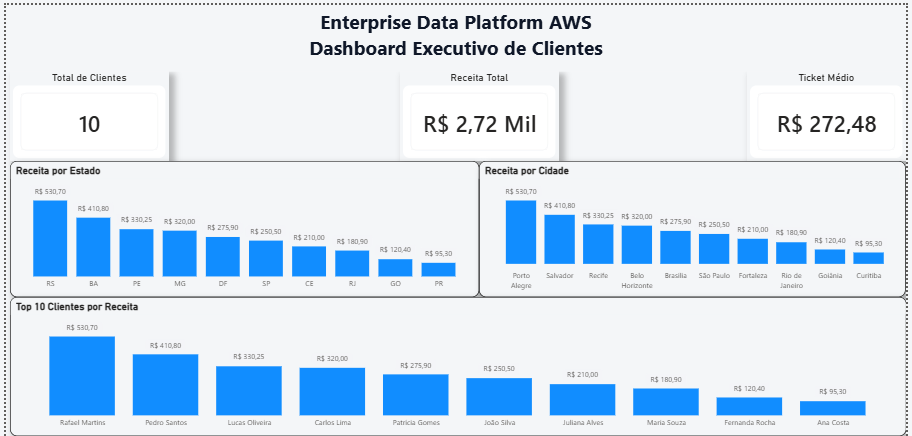

The dashboard page shown, as its layout file describes it:
{"tool":"powerbi","page":{"name":"Página 1","canvas":[1500,720],"ordinal":0},"visuals":[{"type":"cardVisual","title":"Total de Clientes","fields":{"Data":["Count(raw_raw.customer_id)"]},"box":[6.5,109.7,264.5,150],"z":0},{"type":"cardVisual","title":"Receita Total","fields":{"Data":["Sum(raw_raw.purchase_amount)"]},"box":[656.5,109.7,264.5,150],"z":1000},{"type":"cardVisual","title":"Ticket Médio","fields":{"Data":["Avg(raw_raw.purchase_amount)"]},"box":[1235.5,109.7,264.5,150],"z":2000},{"type":"lineClusteredColumnComboChart","title":"Receita por Estado","fields":{"Category":["raw_raw.state"],"Y":["Sum(raw_raw.purchase_amount)"]},"box":[6.5,259.7,782.3,227.4],"z":3000},{"type":"textbox","box":[0,0,1500,111.3],"z":4000},{"type":"lineClusteredColumnComboChart","title":"Receita por Cidade","fields":{"Category":["raw_raw.city"],"Y":["Sum(raw_raw.purchase_amount)"]},"box":[788.7,259.7,711.3,227.4],"z":5000},{"type":"lineClusteredColumnComboChart","title":"Top 10 Clientes por Receita","fields":{"Category":["raw_raw.name"],"Y":["Sum(raw_raw.purchase_amount)"]},"box":[6.5,487.1,1493.5,232.3],"z":6000}]}

Visuals, with their boxes in screenshot pixels (x1, y1, x2, y2), scaled from the page's 1500x720 canvas onto the 912x436 screenshot:
"Total de Clientes" cardVisual: <region>4, 66, 165, 157</region>
"Receita Total" cardVisual: <region>399, 66, 560, 157</region>
"Ticket Médio" cardVisual: <region>751, 66, 911, 157</region>
"Receita por Estado" lineClusteredColumnComboChart: <region>4, 157, 480, 295</region>
textbox: <region>0, 0, 911, 67</region>
"Receita por Cidade" lineClusteredColumnComboChart: <region>480, 157, 911, 295</region>
"Top 10 Clientes por Receita" lineClusteredColumnComboChart: <region>4, 295, 911, 435</region>
